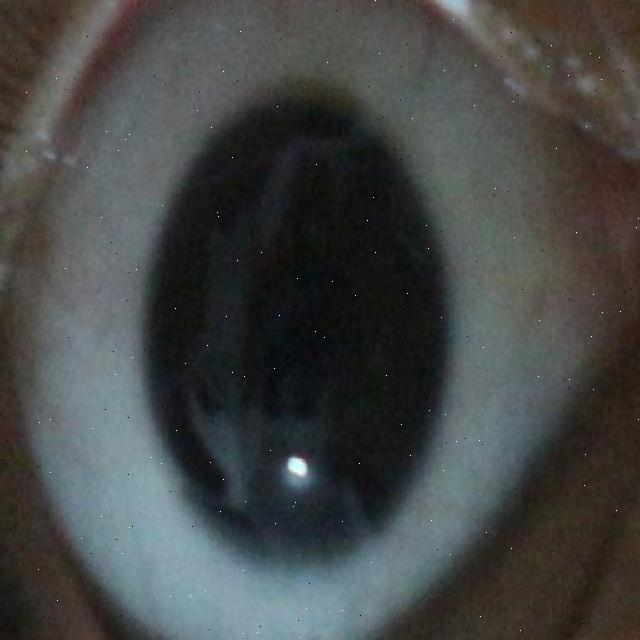Normal: (144, 95, 449, 561)
